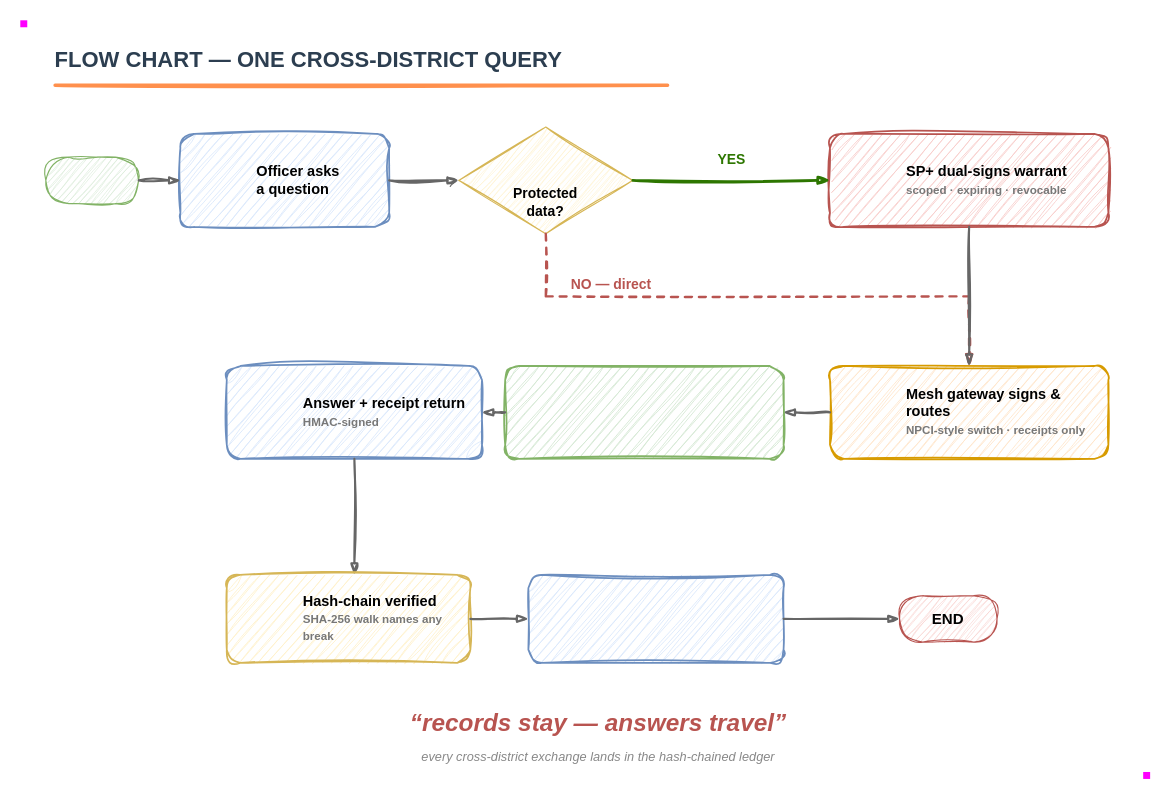
The diagram is 1169 pixels wide and 798 high, and some of its shapes have lost their labels. The box of each missing label's shape, as (x1, y1, x2, y2) in pixels:
Cited report generated every claim → its source: (527, 573, 784, 663)
Every vault answers locally data never leaves its district: (504, 365, 784, 459)
START: (45, 156, 139, 204)
